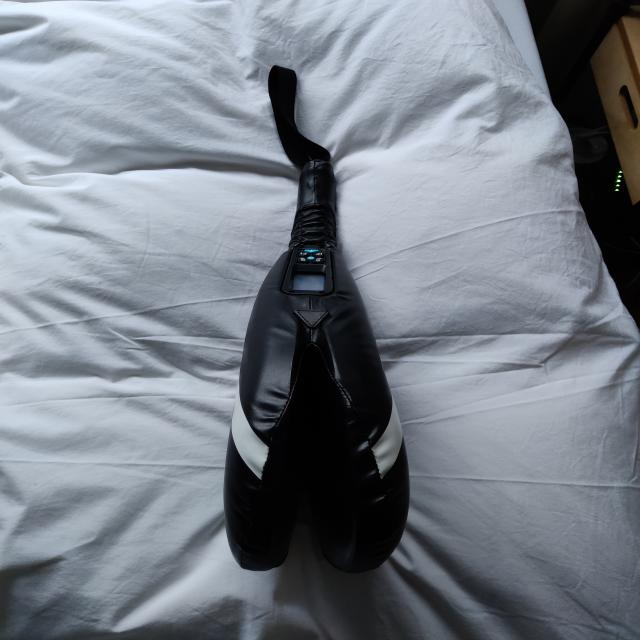paddle: (218, 154, 412, 577)
